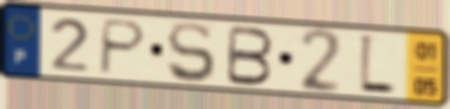2: (297, 25, 344, 97), (48, 16, 92, 74)
B: (223, 23, 276, 88)
L: (357, 31, 398, 98)
P: (96, 16, 150, 77)
S: (164, 19, 218, 85)
